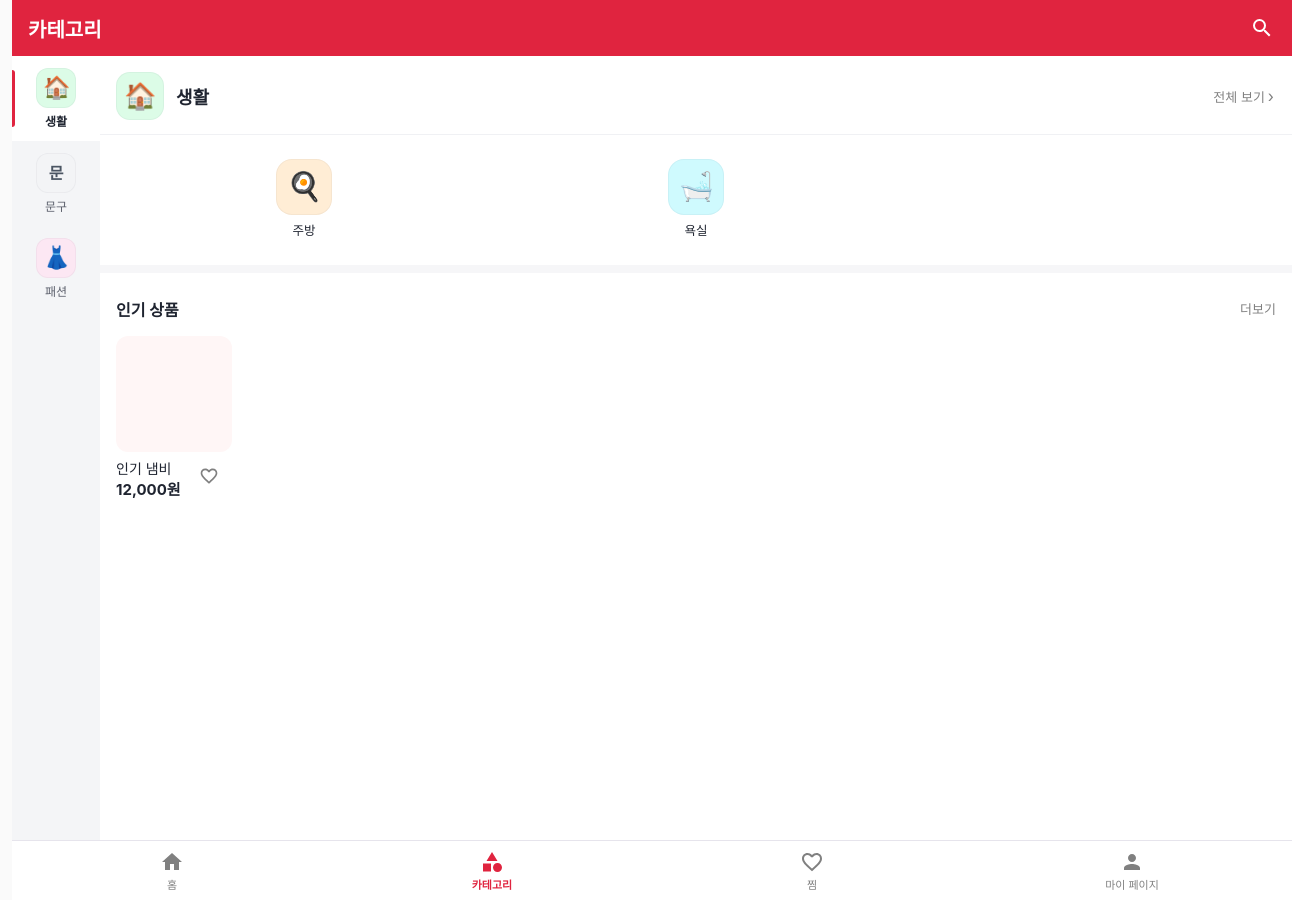
Scenario: CategoryPage › has a search button in the top bar
Expected: the element "생활" is shown, [100,56,1291,511]
Click the link named "검색". click: (1262, 28)
box: [1250,16,1274,40]
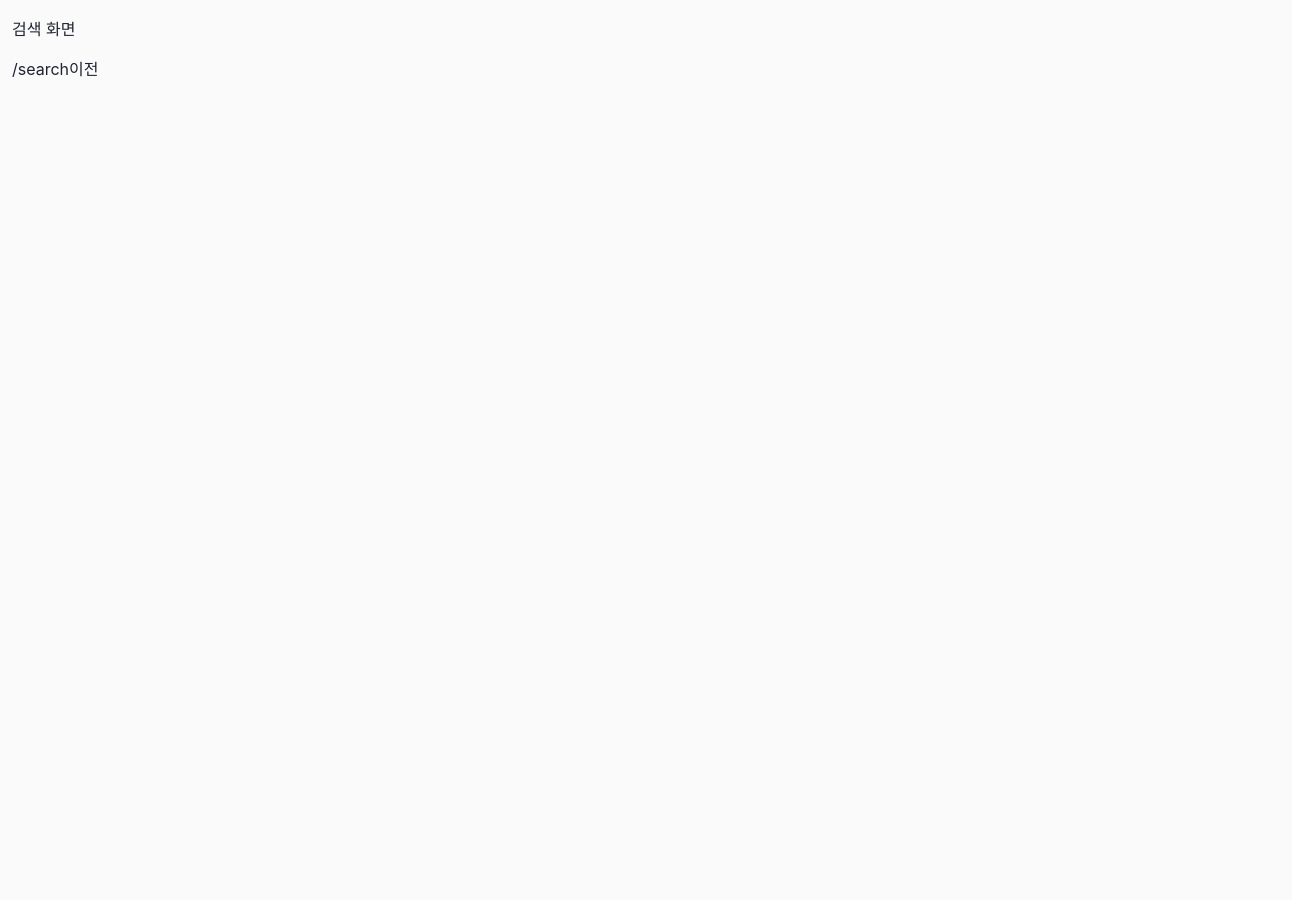
Expected: the text "검색 화면" is shown, [12,19,75,39]
